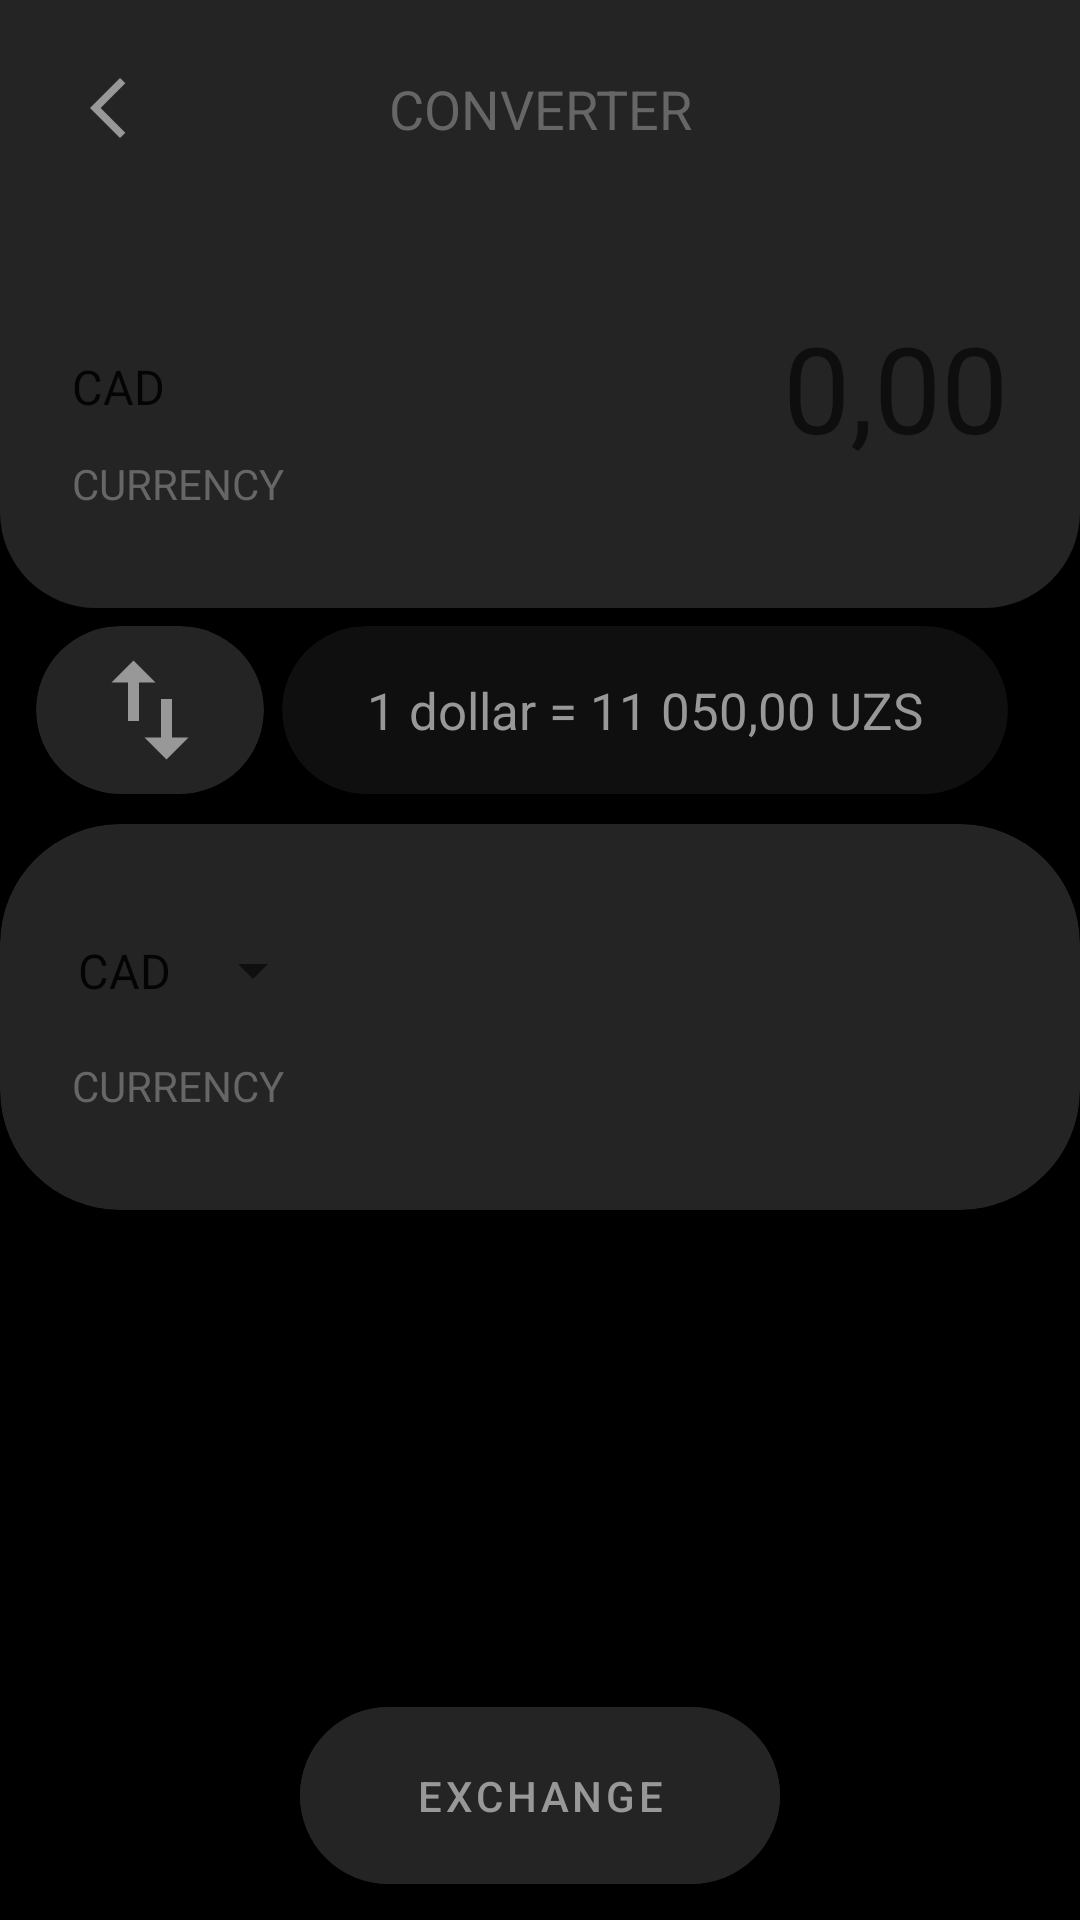

Locate icon controls on the screen. Image size 1080px×1920px, boxes as bbox=(x1, y1, x2, y2).
arrow back: bbox=(90, 78, 125, 138)
swap vert: bbox=(36, 626, 264, 794)
